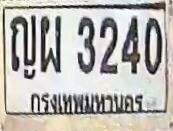0: (144, 17, 162, 74)
2: (100, 16, 119, 74)
3: (76, 16, 96, 72)
4: (121, 16, 140, 74)
A13: (9, 14, 36, 71)
A28: (39, 15, 62, 72)
BKK: (28, 88, 146, 117)
